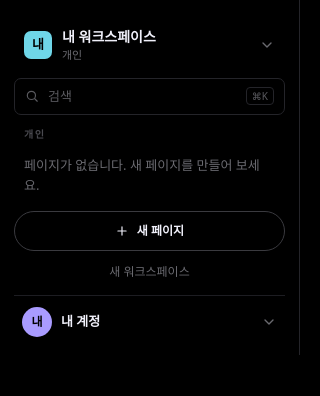
Test case: Sidebar › PR리뷰: 워크스페이스 전환 경쟁 상태 — 늦게 도착한 이전 응답은 무시한다
The image size is (320, 396).
Check: the text "내 워크스페이스" is shown, box [62,27,156,46]
What coordinates should you click on to do the following:
click the button "내 내 워크스페이스 개인"
I would click on:
 (150, 45)
Its box is [14,18,285,72].
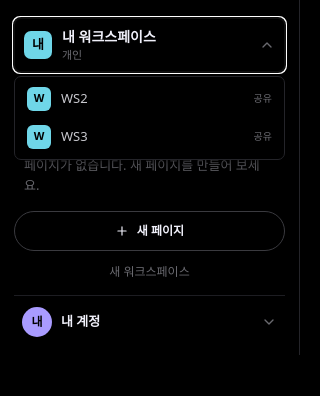
What coordinates should you click on to do the following:
click the menu item "W WS2 공유"
I would click on:
 (39, 98)
Its box is [19,80,280,116].
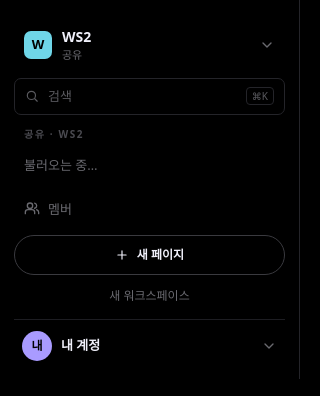
What coordinates should you click on to do the following:
click the button "W WS2 공유"
I would click on:
 (38, 45)
Its box is [14,18,285,72].
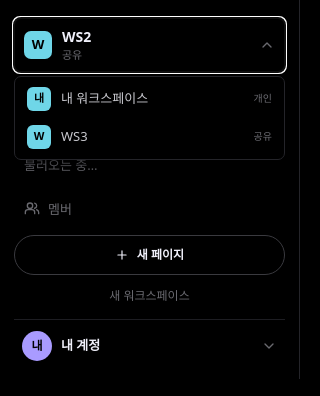
What coordinates should you click on to do the following:
click the menu item "W WS3 공유"
I would click on:
 (39, 136)
Its box is [19,118,280,154].
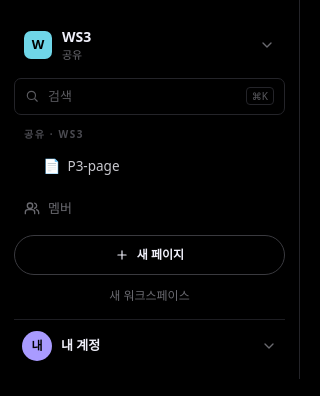
Check: the button "P3-page" is shown, box [68,156,219,176]
